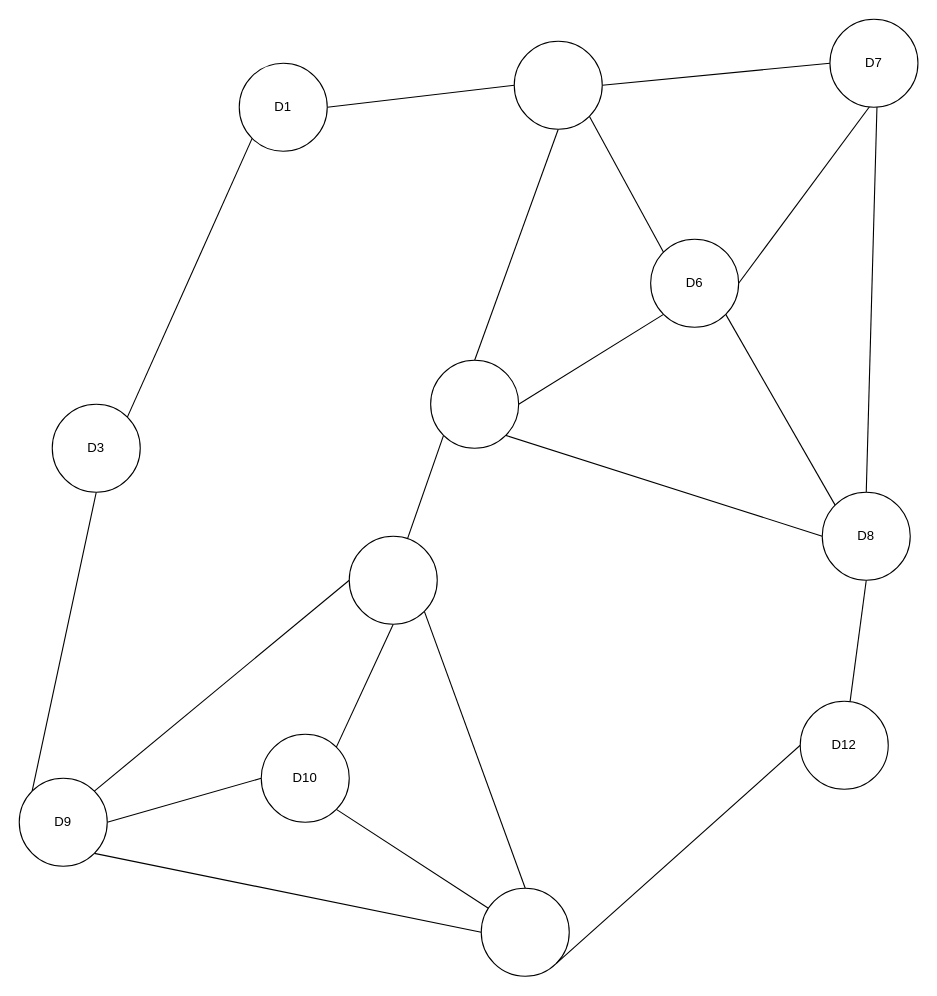
Image size: 937x996. Some labels were removed from this diagram. Each missing label, with the box of its shape:
D11: (480, 887, 569, 976)
D2: (430, 359, 519, 448)
D4: (348, 535, 437, 624)
D5: (513, 40, 602, 129)
